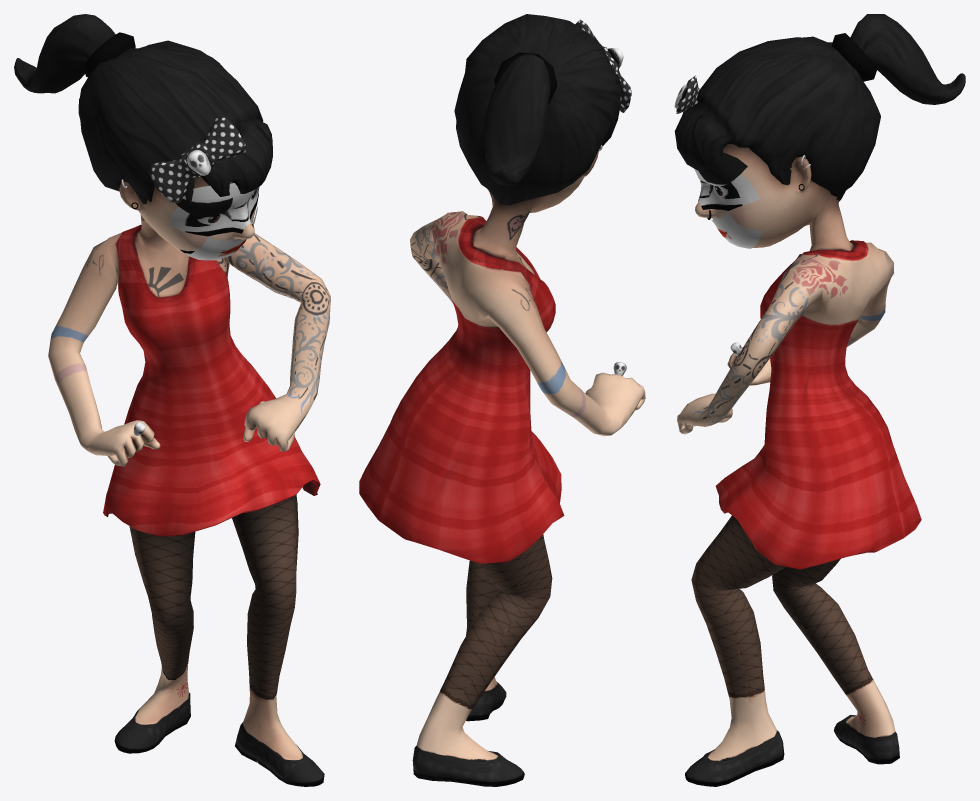
Rendered from girl_dancing_02.glb.
The picture shows the model from 3 angles, left to right: view 1: azimuth 30°, elevation 25°; view 2: azimuth 150°, elevation 25°; view 3: azimuth 270°, elevation 25°; orthographic projection. The views are drawn at different scales.
Visible parts, largest first — view 1: Girl_Body_Geo, Girl_Eyes_Geo, Girl_Brows_Geo, Girl_Mouth_Geo; view 2: Girl_Body_Geo; view 3: Girl_Body_Geo, Girl_Eyes_Geo, Girl_Mouth_Geo, Girl_Brows_Geo.
Part boxes in pixels (x1,y1,x2,y2): Girl_Body_Geo: (14, 14, 330, 786); Girl_Eyes_Geo: (169, 186, 259, 236); Girl_Brows_Geo: (175, 183, 258, 217); Girl_Mouth_Geo: (180, 206, 257, 260); Girl_Body_Geo: (359, 14, 645, 786); Girl_Body_Geo: (674, 14, 965, 786); Girl_Eyes_Geo: (698, 174, 759, 210); Girl_Mouth_Geo: (711, 211, 762, 248); Girl_Brows_Geo: (694, 152, 747, 186).
Size of the model in its own units: 0.5723 by 1.73 by 0.649.
4 materials, 4 textured.
